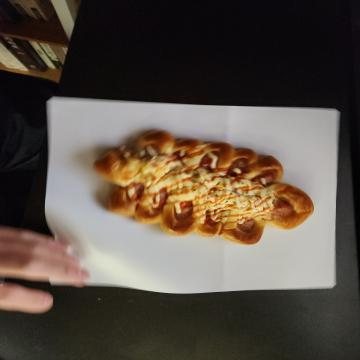pizza_bread: (129, 46, 244, 267)
